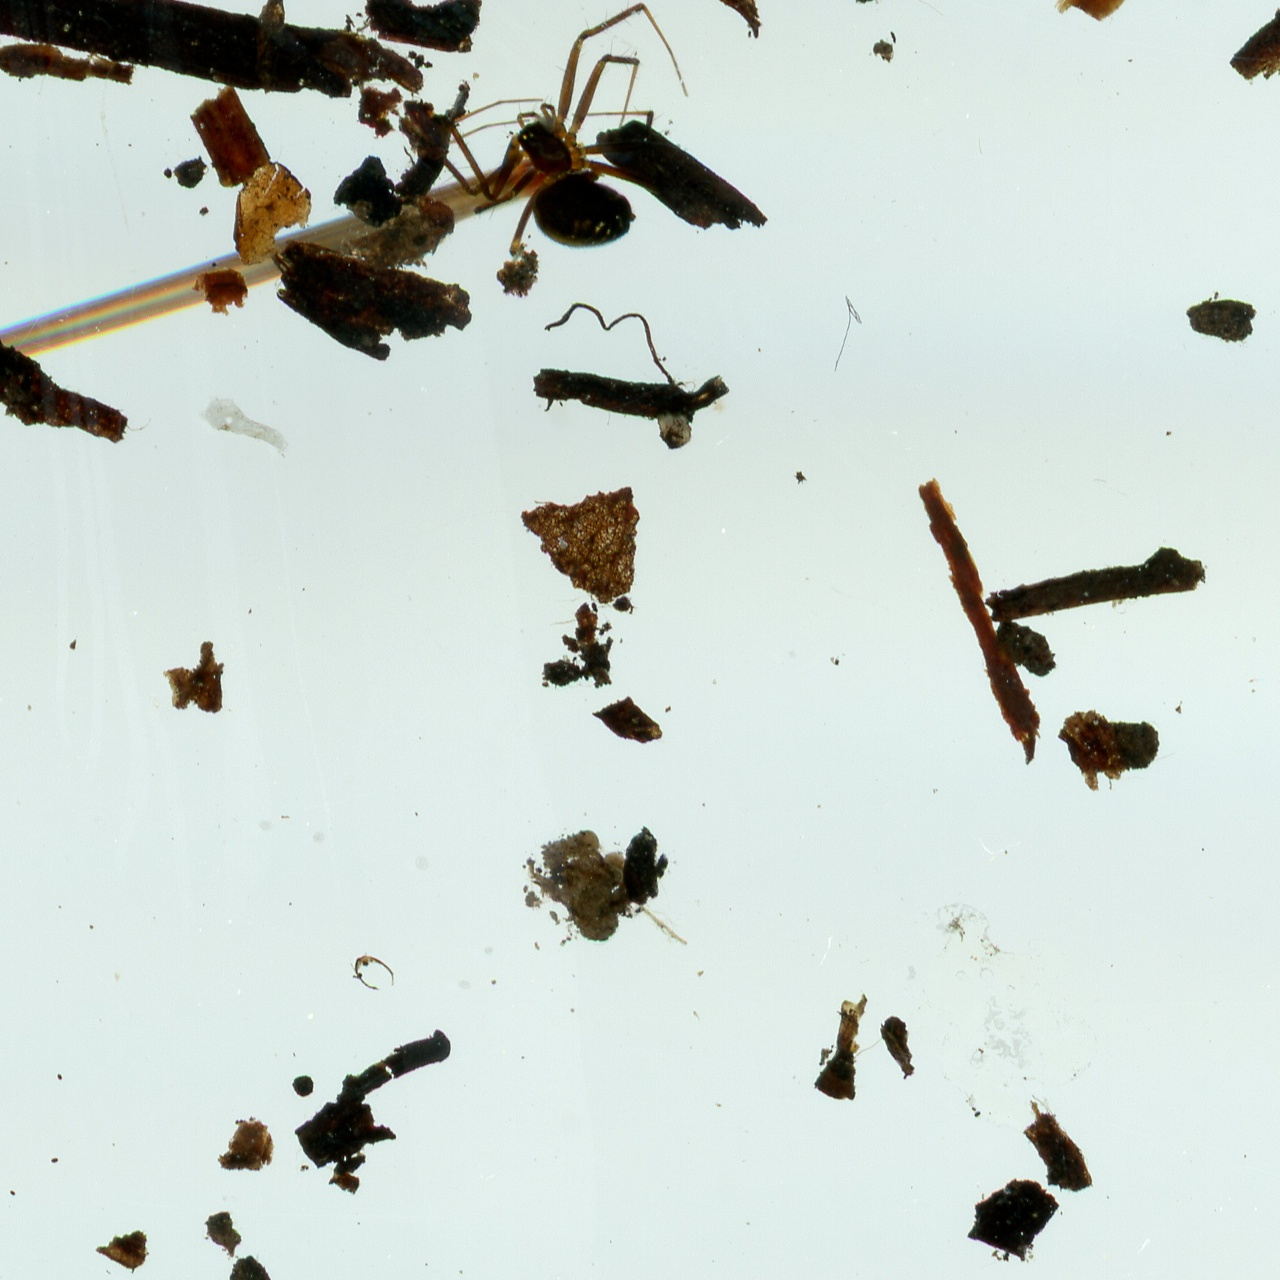arthropod: (397, 0, 750, 307)
